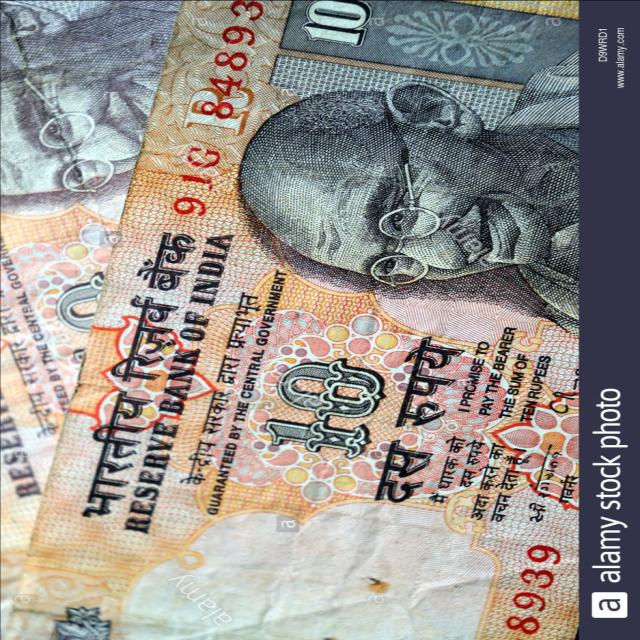10IndianRupees: (18, 1, 580, 640)
